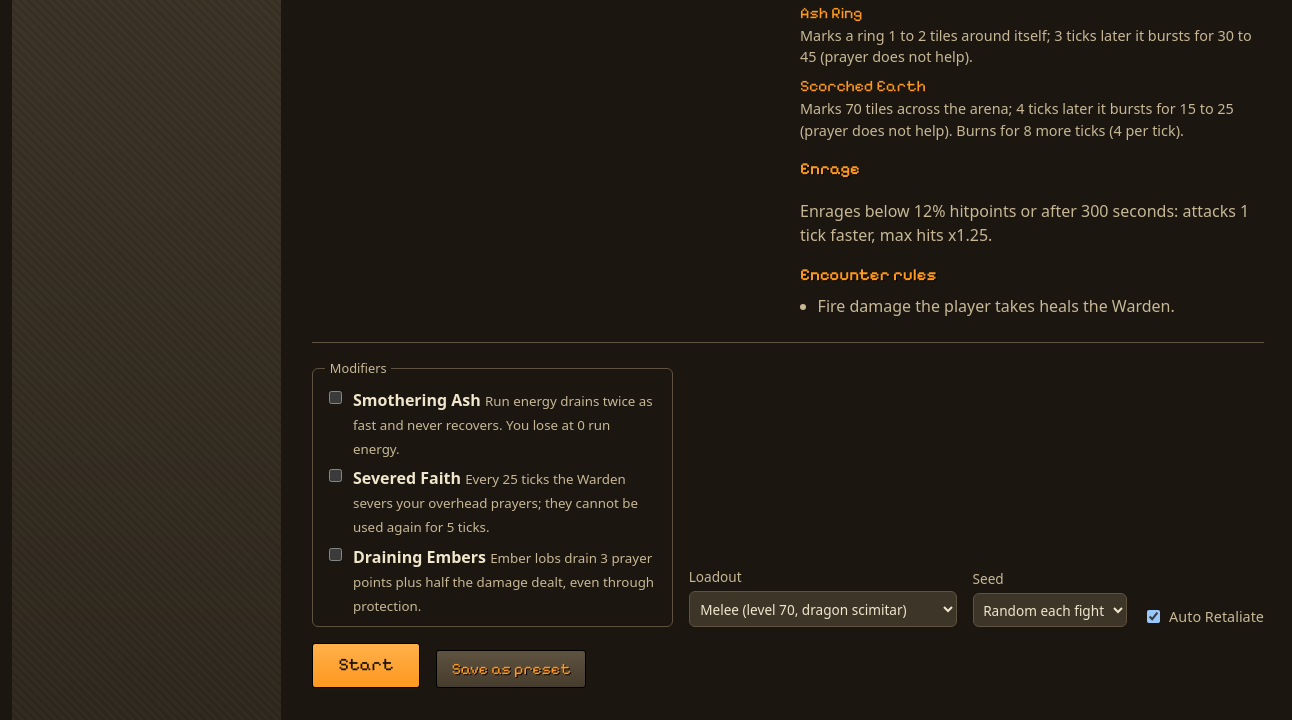
Scenario: EncountersPage › starts a fight with the chosen modifiers
(page scrolled)
Click the 1st checkbox: (336, 397) 329,391 -> 342,404
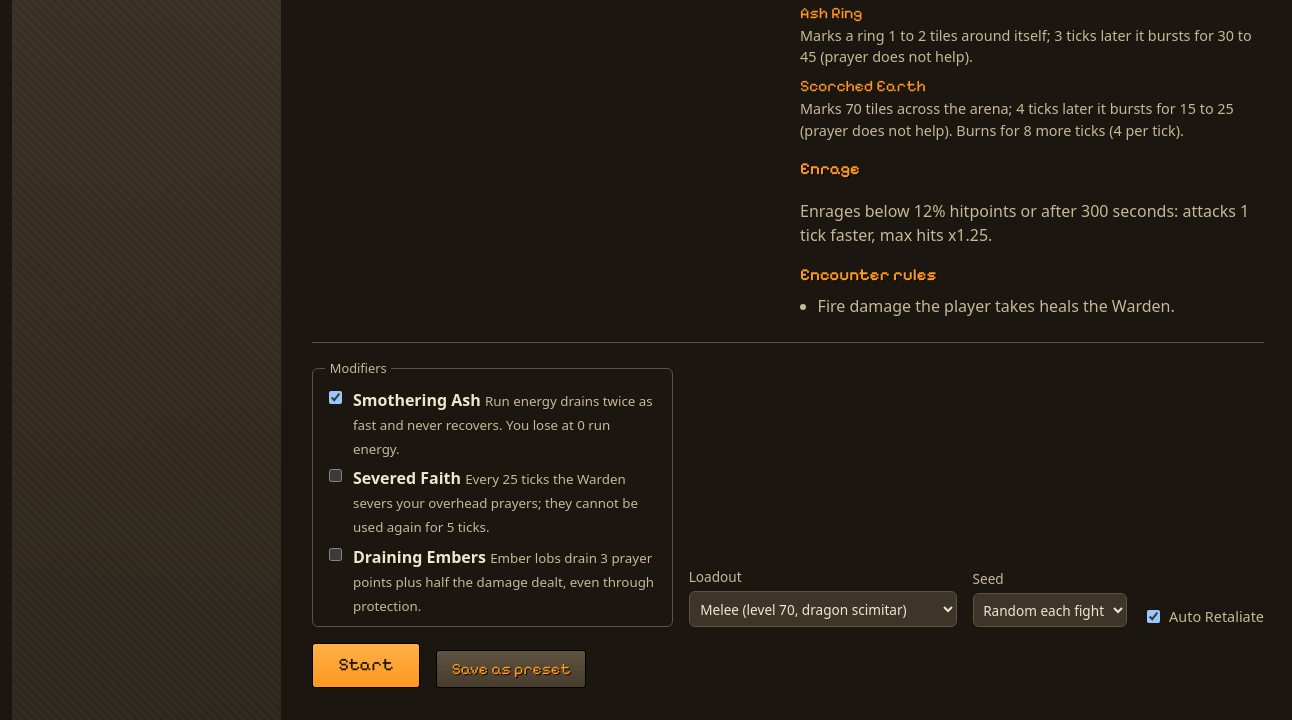
Click the button "Start": (366, 665) 312,643 -> 420,688
(page scrolled)
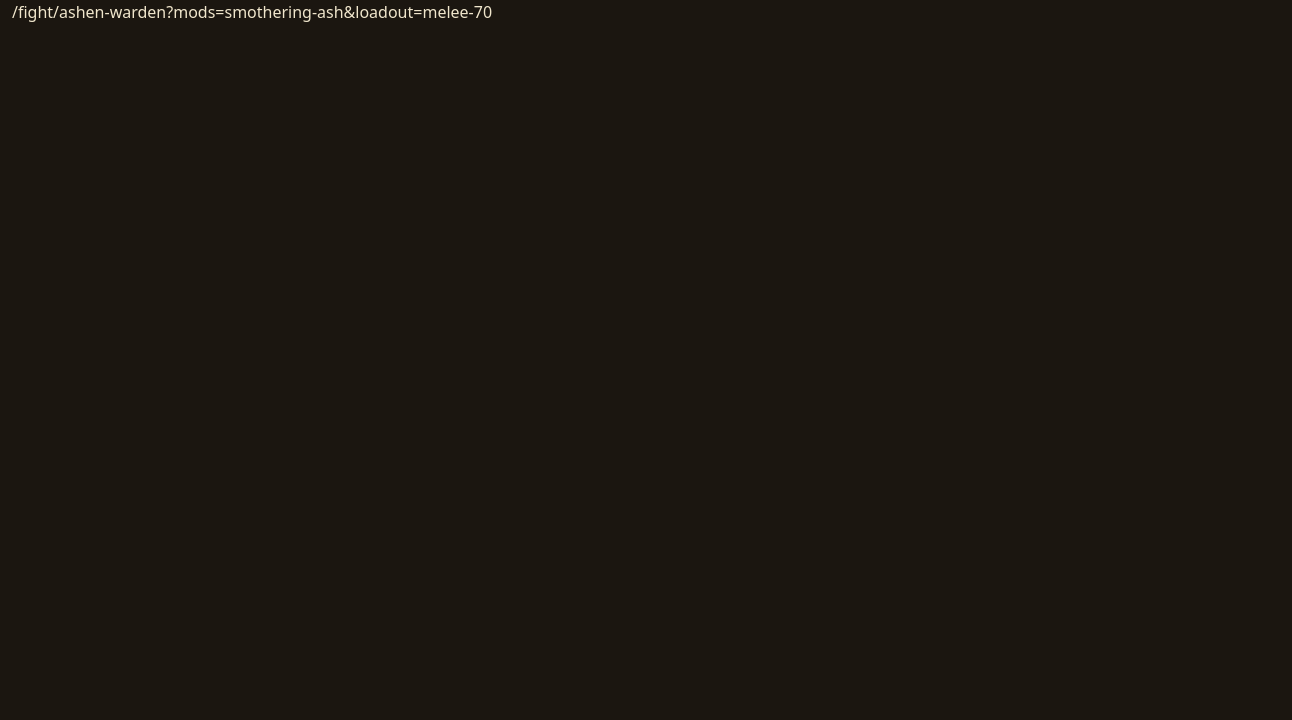
Result: the text with test id "location" reads "/fight/ashen-warden?mods=smothering-ash&loadout=melee-70" at 12,1 -> 492,23
